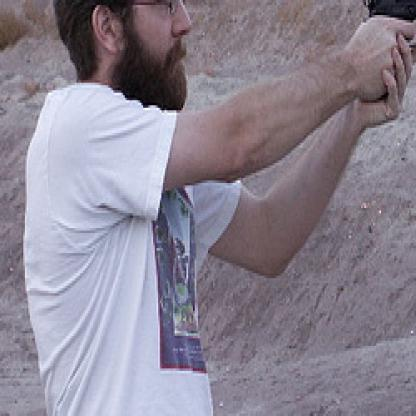gun: (350, 0, 414, 128)
